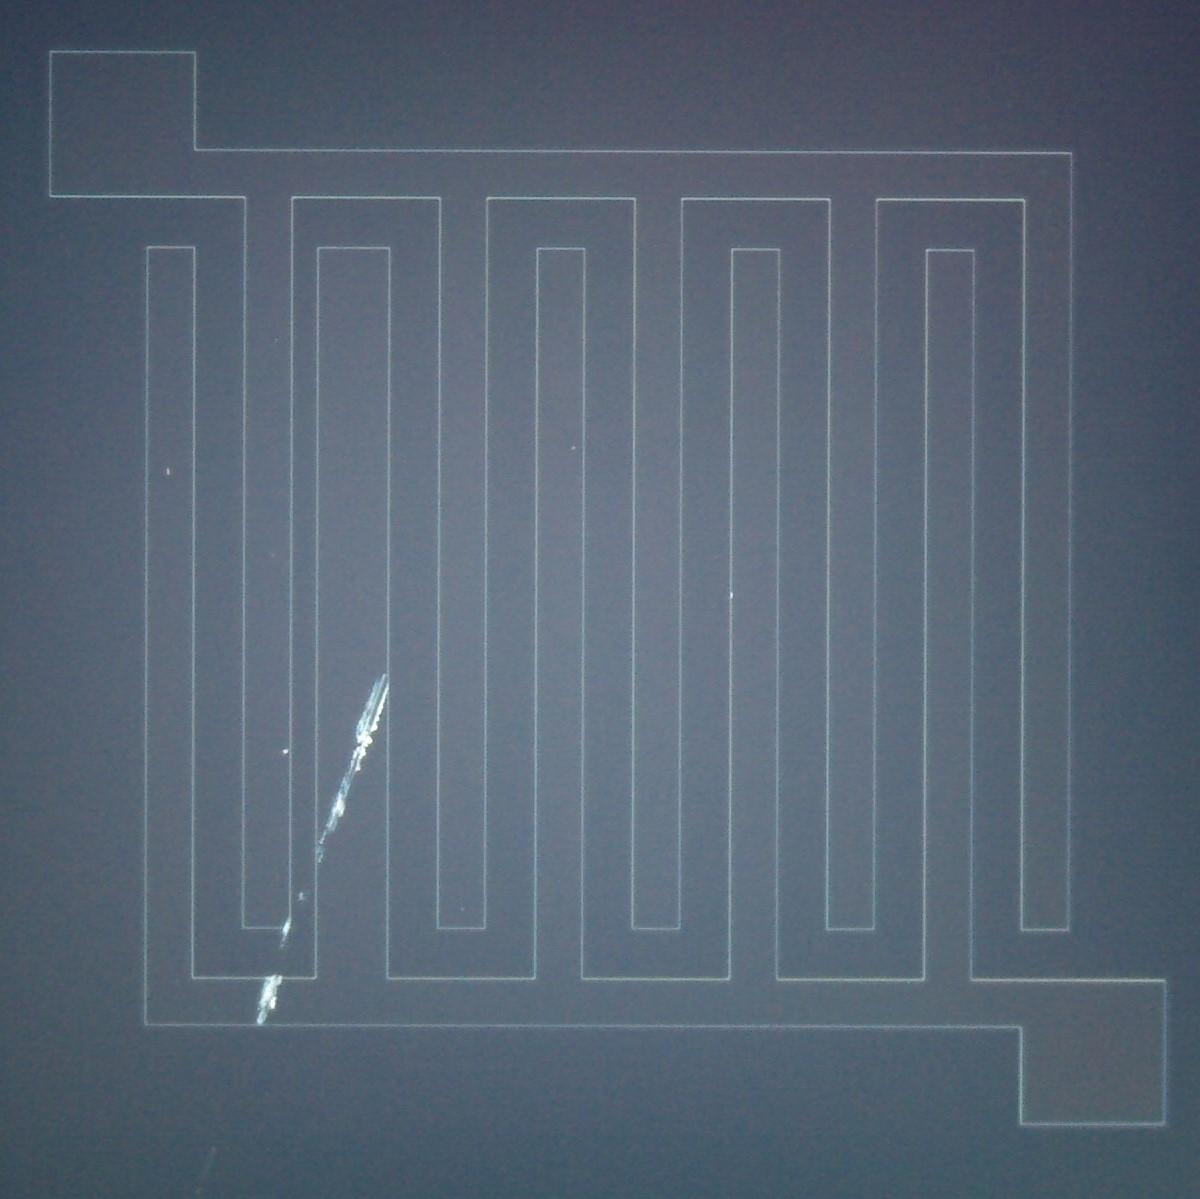s_point: (292, 882, 313, 909), (273, 741, 295, 763), (160, 461, 177, 482), (724, 586, 740, 605), (565, 441, 581, 455)
scratch: (316, 669, 392, 869), (253, 975, 287, 1027), (278, 914, 294, 951)
width: (215, 168, 516, 1002)
